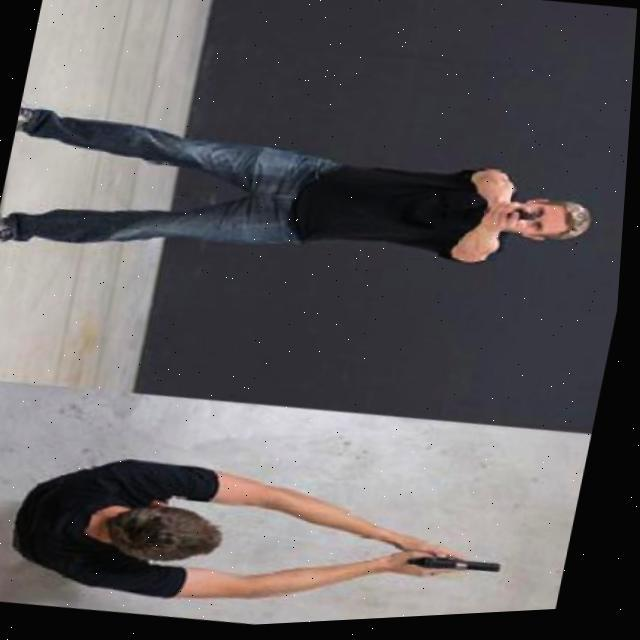gun: (412, 543, 519, 593), (484, 200, 549, 230)
